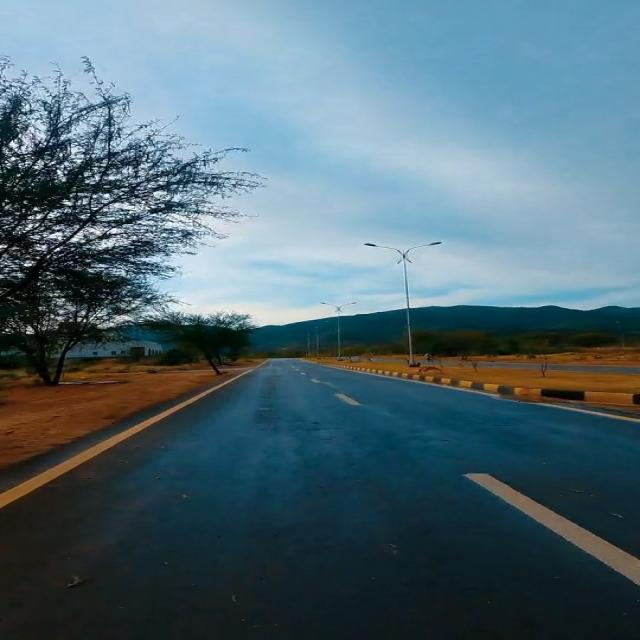asphalt: (1, 360, 639, 639)
